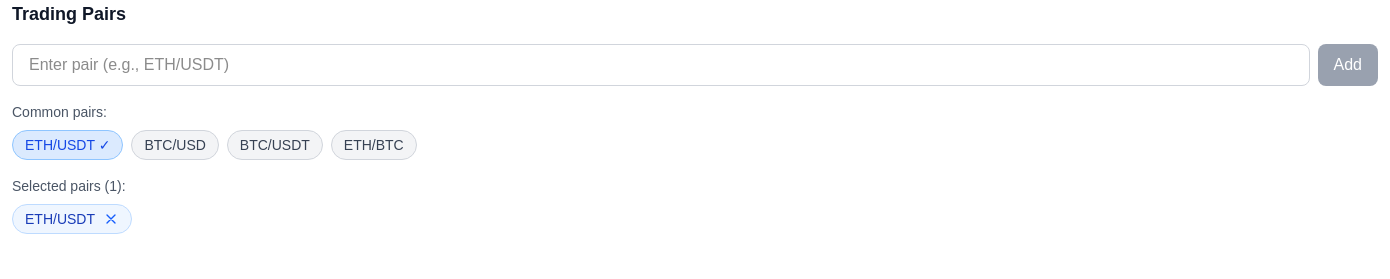
Test: TradingPairSelector › Validation Errors › should show error for duplicate pair
Step 1. Type "ETH/USDT" into the field with placeholder "Enter pair (e.g., ETH/USDT)" → x=661, y=65, box top-left (12, 44), bottom-right (1310, 86)
Then press Enter
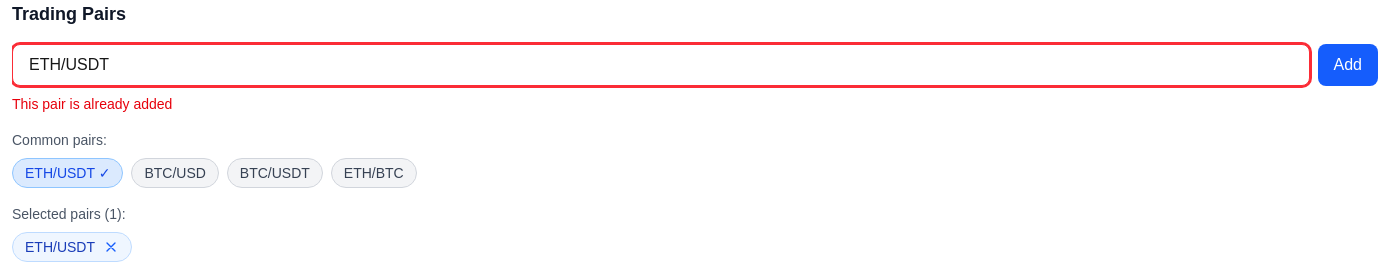
Now the text "This pair is already added" is shown, box top-left (12, 96), bottom-right (172, 112)
